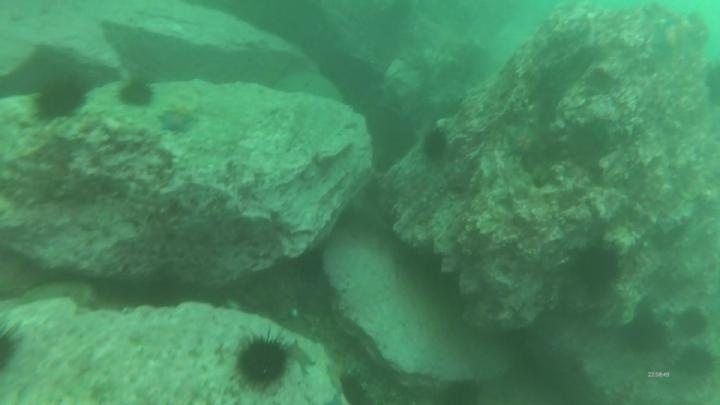echinus: (232, 331, 294, 391), (570, 240, 624, 294), (32, 75, 89, 123), (619, 312, 669, 355), (675, 343, 716, 379), (116, 76, 156, 111), (0, 321, 25, 375), (440, 377, 485, 405), (674, 305, 710, 339), (336, 371, 371, 405), (419, 127, 451, 163)
starfish: (502, 121, 543, 160), (284, 337, 318, 377), (156, 105, 200, 135)
